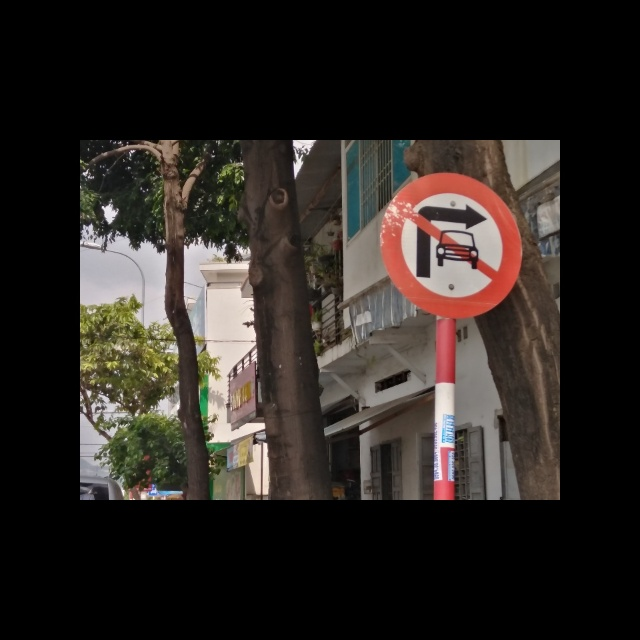Cấm xe ô tô rẽ trái: (378, 172, 524, 319)
